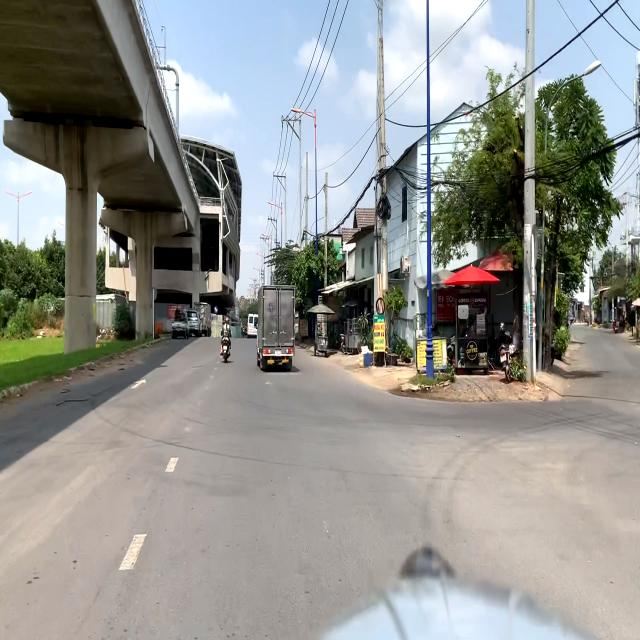R.302a: (214, 306, 218, 313)
